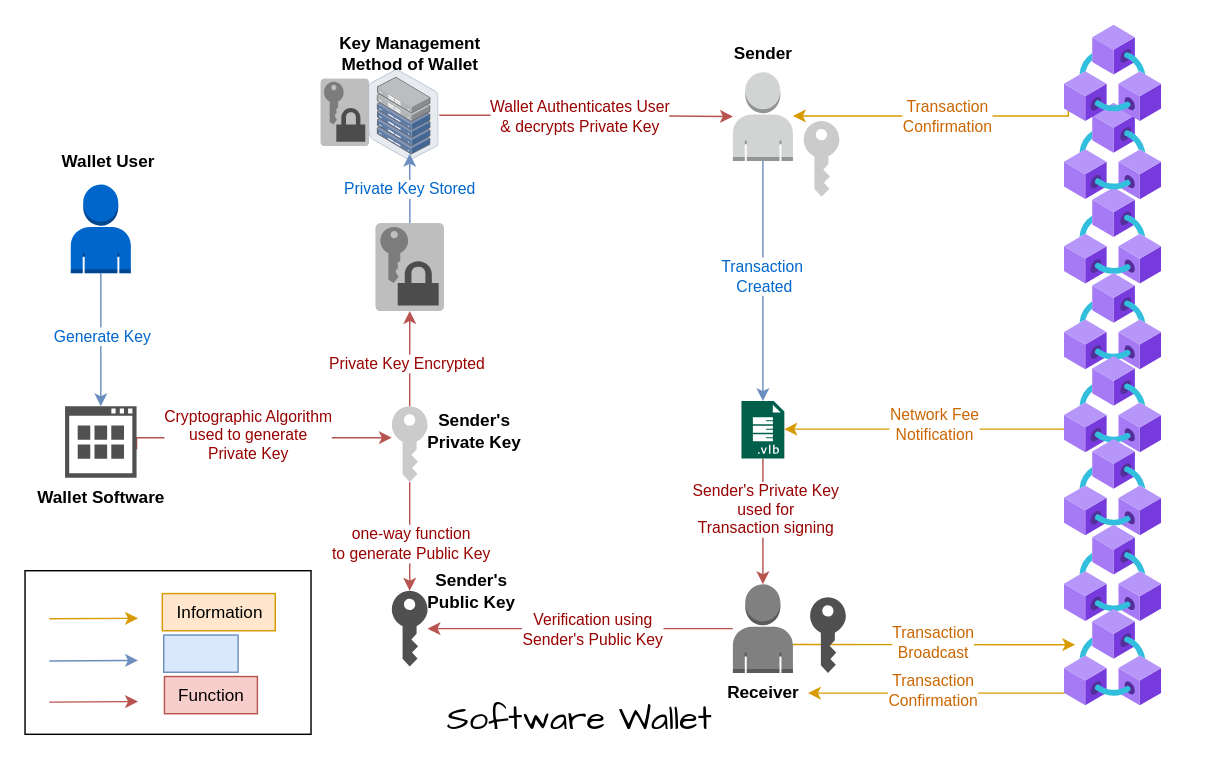
This 1220x768 diagram has some shape labels left out. Here are the shapes that lost their labels. From the top down, the box of each, then its label:
(162, 634, 238, 672): Action
(1064, 609, 1161, 706): Blockchain Network
